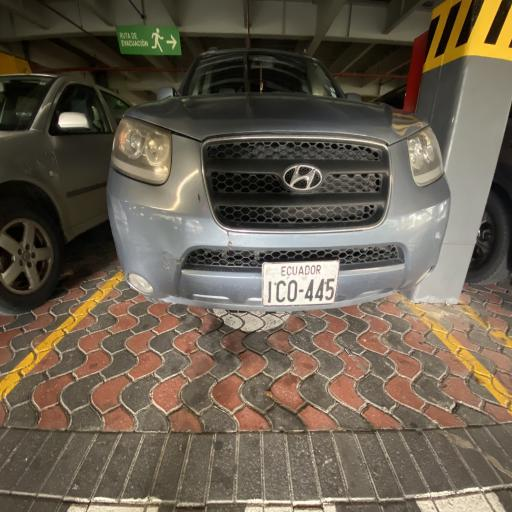license_plate: (275, 279, 287, 303), (264, 280, 275, 303), (325, 277, 335, 301), (288, 279, 298, 302), (304, 279, 314, 302), (315, 278, 324, 301)
